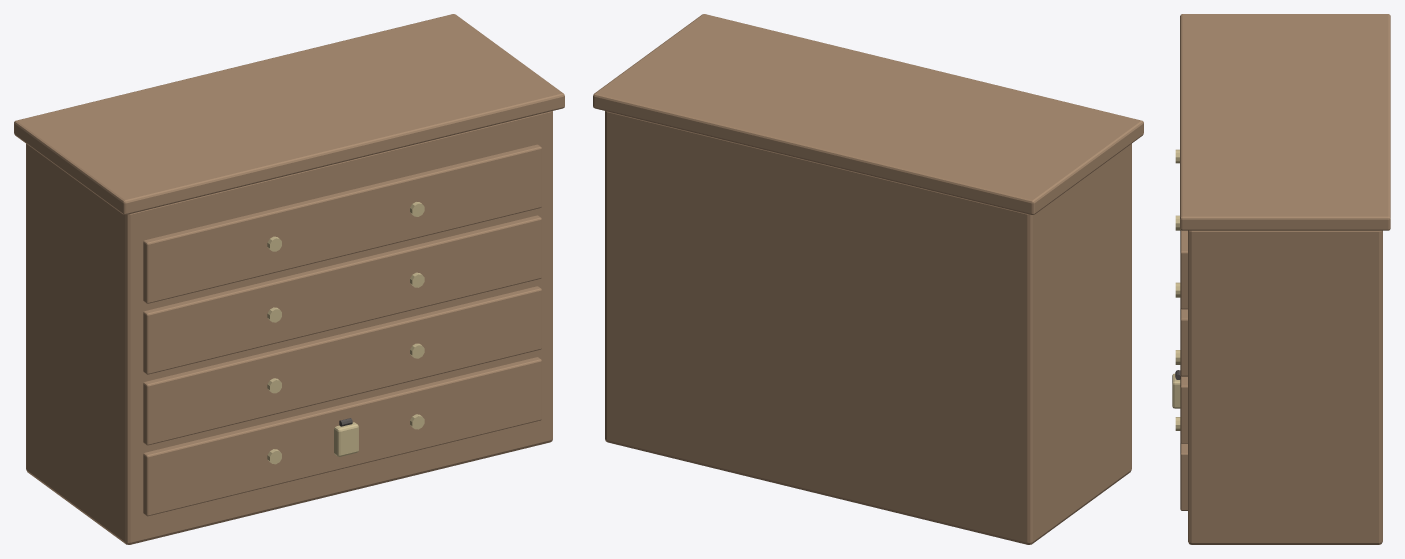
Rendered from dresser_01.glb.
The picture shows the model from 3 angles, left to right: view 1: azimuth 30°, elevation 25°; view 2: azimuth 150°, elevation 25°; view 3: azimuth 270°, elevation 25°; orthographic projection. The views are drawn at different scales.
Visible parts, largest first — view 1: dresser_01; view 2: dresser_01; view 3: dresser_01.
Boxes of the visible parts, <box> form: dresser_01: <box>14,14,564,544</box>; dresser_01: <box>593,14,1143,544</box>; dresser_01: <box>1172,14,1390,544</box>.
Size of the model in its own units: 1.24 by 0.94 by 0.56.
